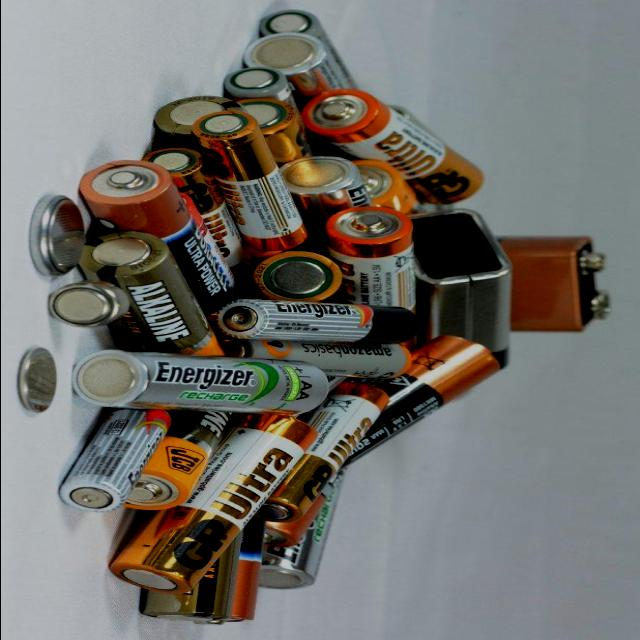AA: (104, 410, 324, 598), (298, 86, 487, 208), (63, 347, 331, 416), (185, 108, 312, 253), (57, 407, 179, 516), (212, 298, 421, 347)
COIN: (24, 192, 87, 280), (42, 279, 132, 329), (14, 344, 60, 416)
